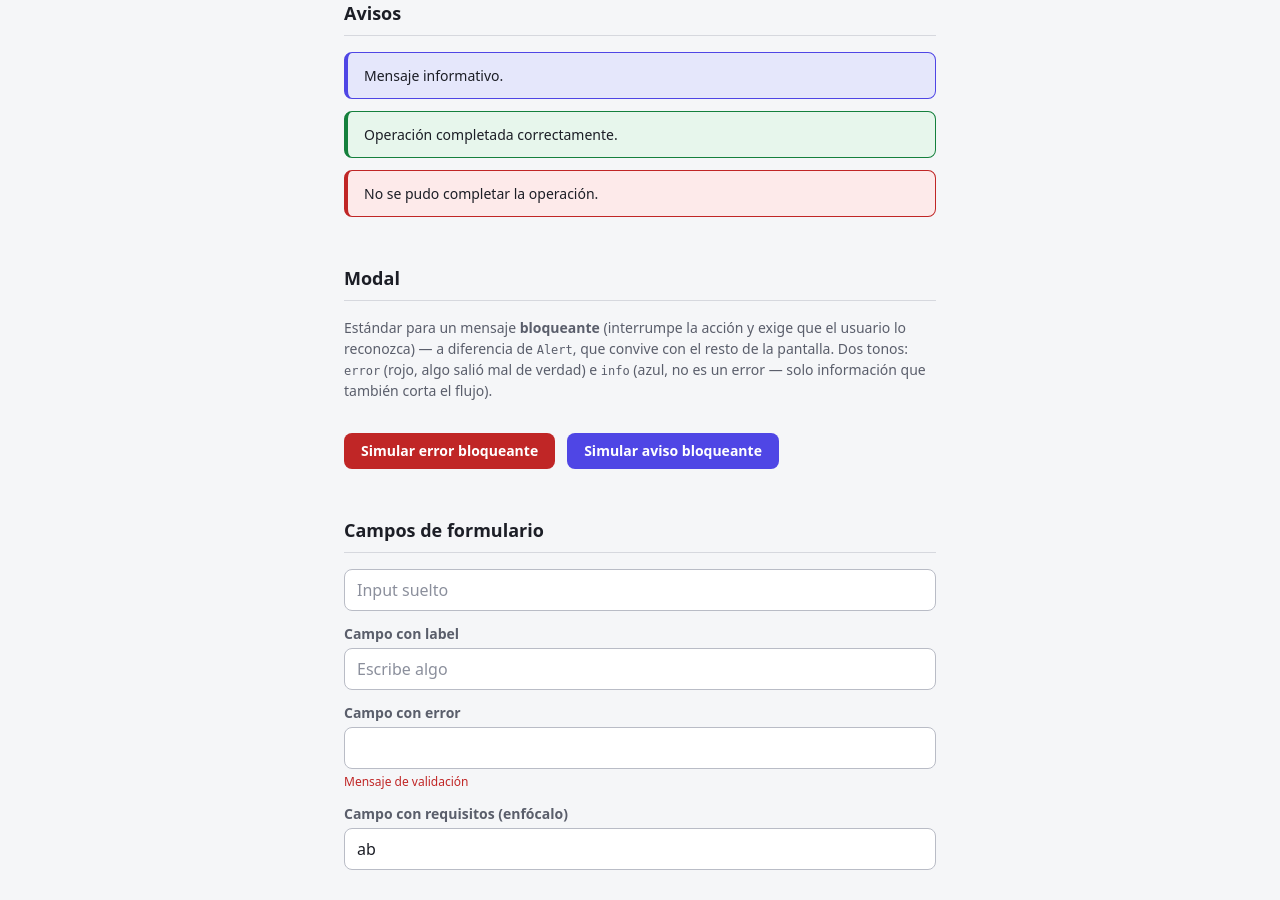
Test: StyleGuidePage › simula y cierra el modal de error (tono error) desde la guía viva
(page scrolled)
Click the button "Simular error bloqueante" at point(450, 451), box [344,433,555,468]
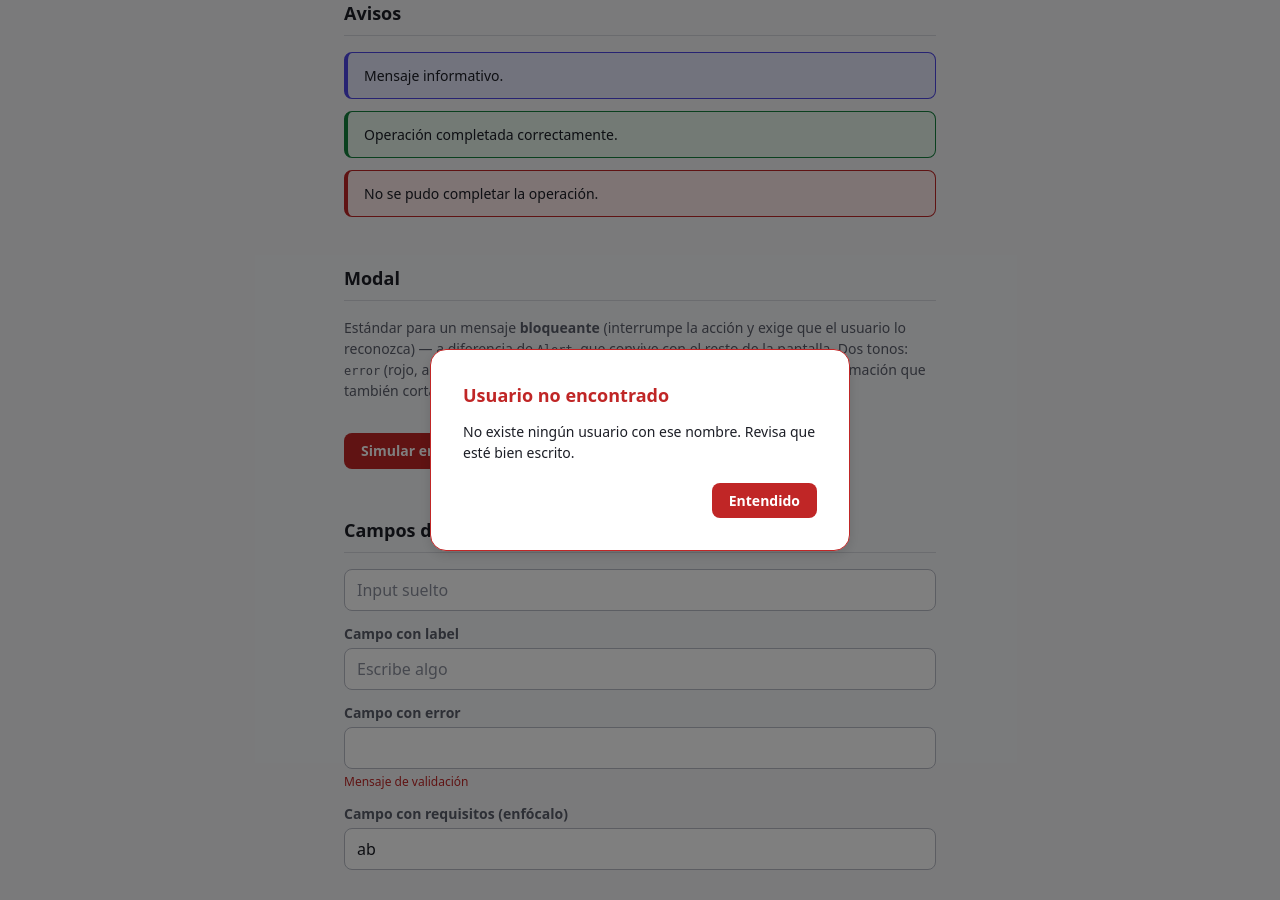
expect the dialog "Usuario no encontrado" is shown: met, box [430,349,850,551]
Click the button "Entendido" at point(764, 501), box [712,483,817,518]
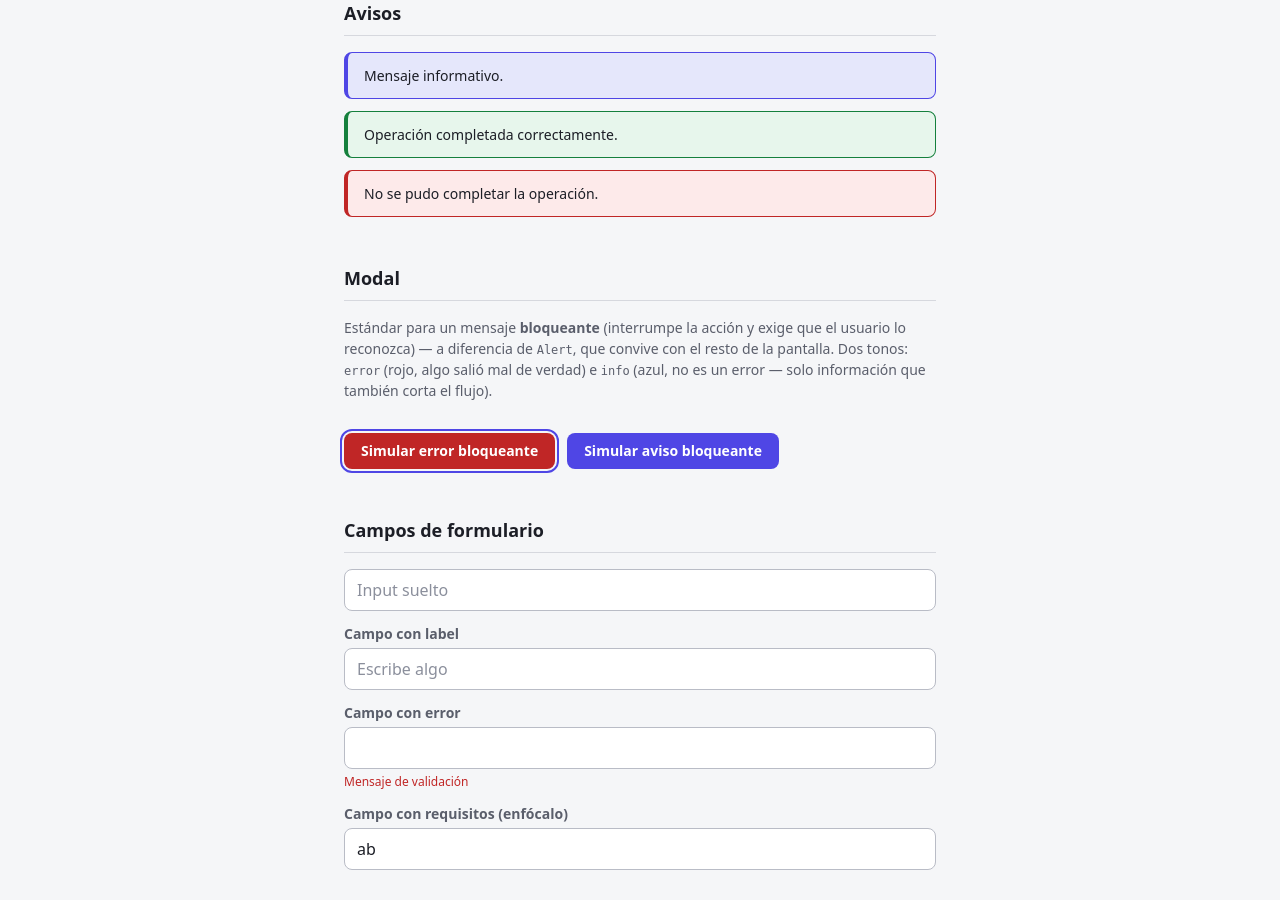
expect the dialog is gone: met
